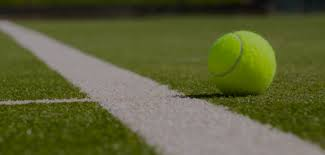tennis_ball: (206, 27, 277, 98)
